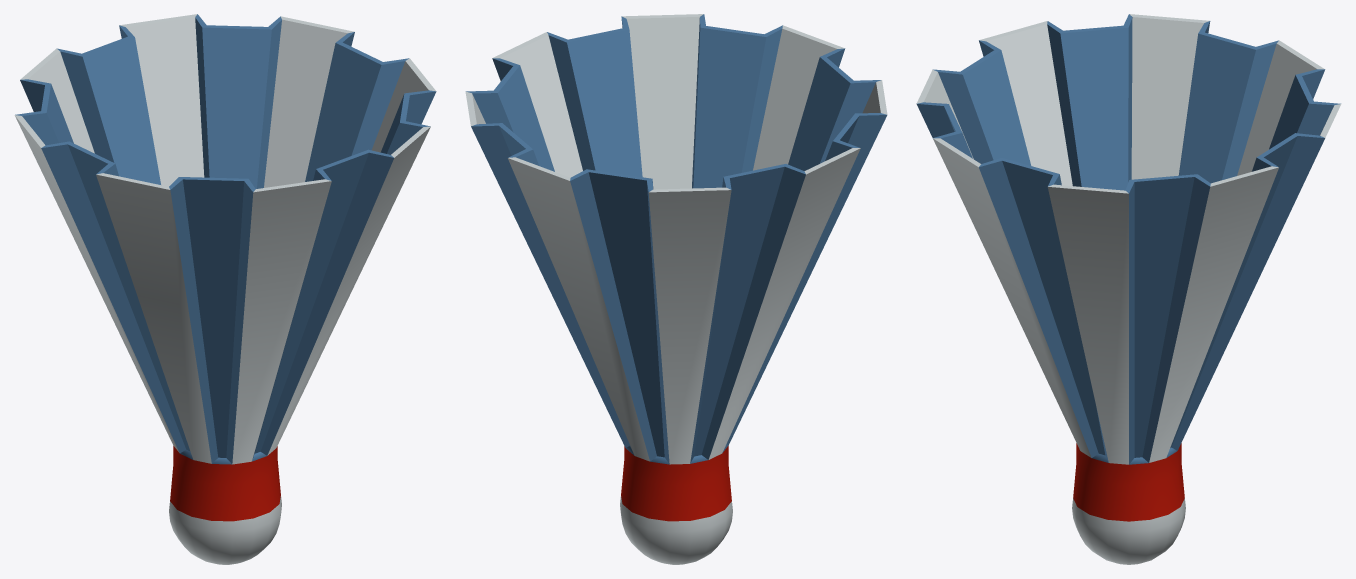
The model's file is BadmintonBall.fbx.
3 renders of one model, left to right at view 1: azimuth 30°, elevation 25°; view 2: azimuth 150°, elevation 25°; view 3: azimuth 270°, elevation 25°, orthographic.
Visible parts, largest first — view 1: BadmintonBall; view 2: BadmintonBall; view 3: BadmintonBall.
Part boxes in pixels (<box>): BadmintonBall: <box>14,14,436,564</box>; BadmintonBall: <box>465,14,887,564</box>; BadmintonBall: <box>916,14,1341,564</box>.
Bounding box in the file's own units: 6.72 × 7.95 × 6.72.
